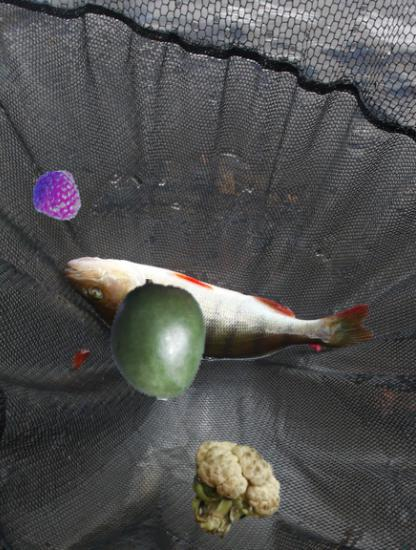Cauliflower: (182, 441, 284, 543)
Mango: (98, 280, 218, 400)
Raspberry: (31, 171, 83, 223)
